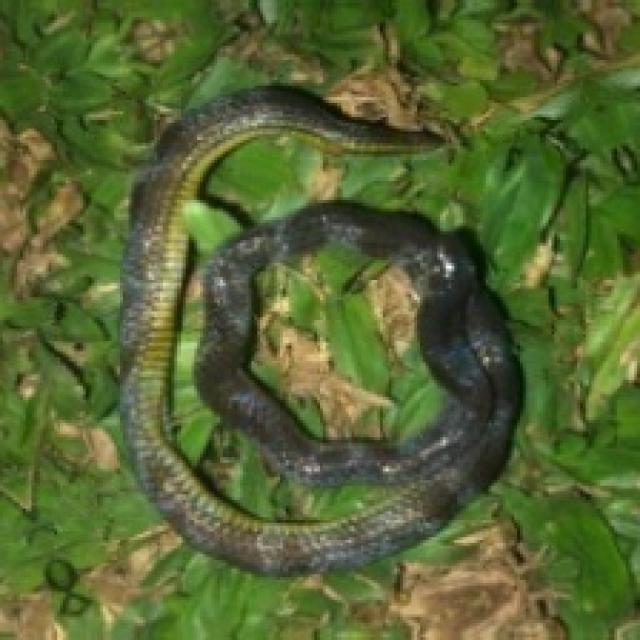gervais worm snake: (120, 86, 520, 571), (249, 243, 443, 440)
